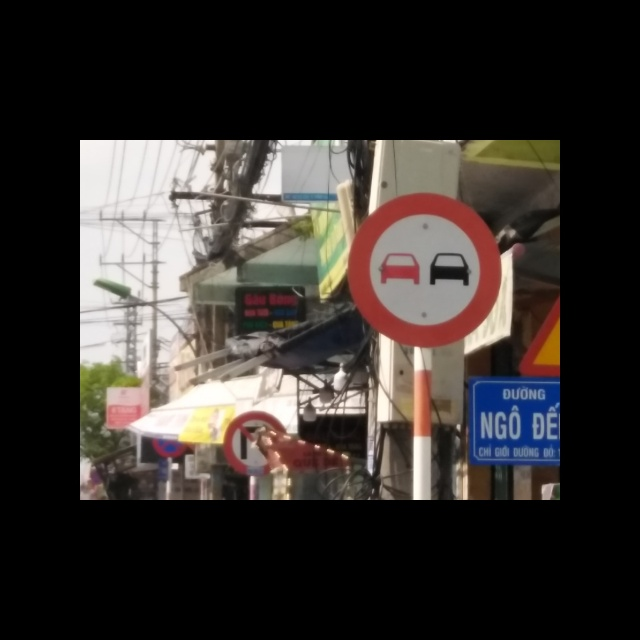Cấm vượt: (348, 191, 504, 347)
